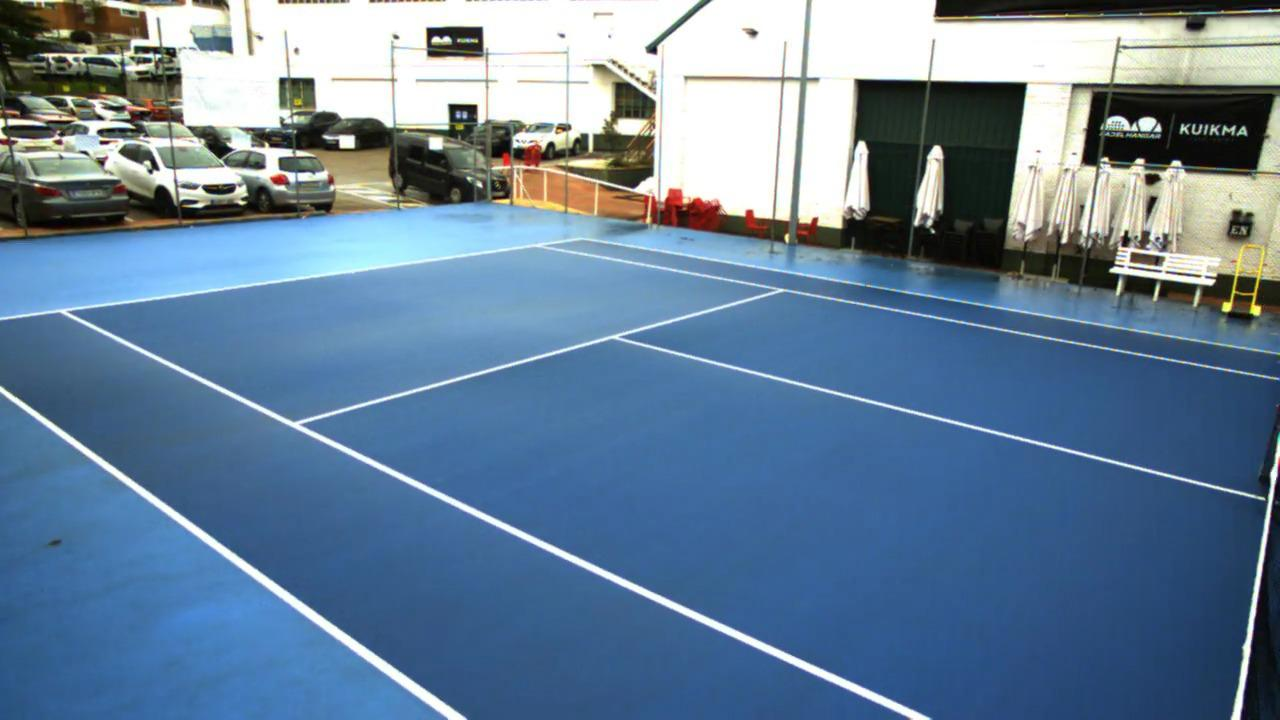cancha_tenis: (60, 242, 1280, 720)
point_f1: (49, 297, 80, 328)
point_f2: (526, 234, 551, 256)
point_fc1: (346, 267, 360, 283)
point_i1: (279, 410, 315, 436)
point_i2: (760, 280, 796, 301)
point_ic1: (602, 324, 631, 350)
